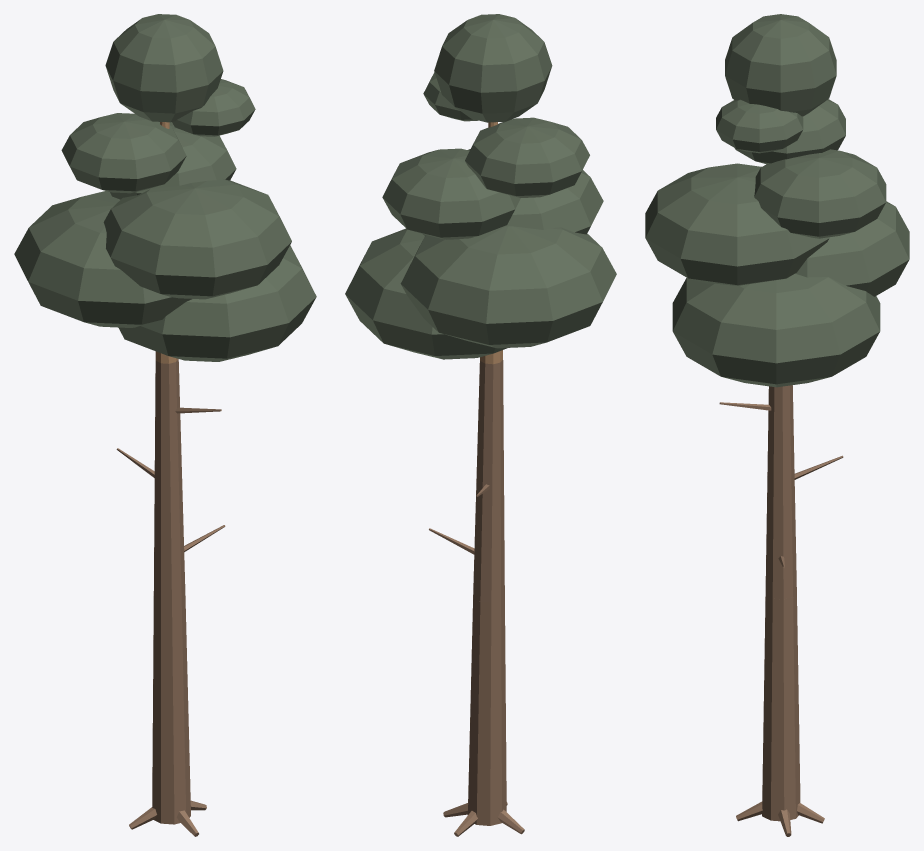
Rendered from TallPineA.fbx.
3 views of the same model, side by side, from view 1: azimuth 30°, elevation 25°; view 2: azimuth 150°, elevation 25°; view 3: azimuth 270°, elevation 25° (orthographic).
Parts seen in each view (by area): view 1: TallPineA; view 2: TallPineA; view 3: TallPineA.
Boxes of the visible parts, x1=… form: TallPineA: x1=14, y1=14, x2=316, y2=836; TallPineA: x1=345, y1=14, x2=616, y2=836; TallPineA: x1=645, y1=14, x2=909, y2=836.
Bounding box in the file's own units: 403 × 1195 × 359.
